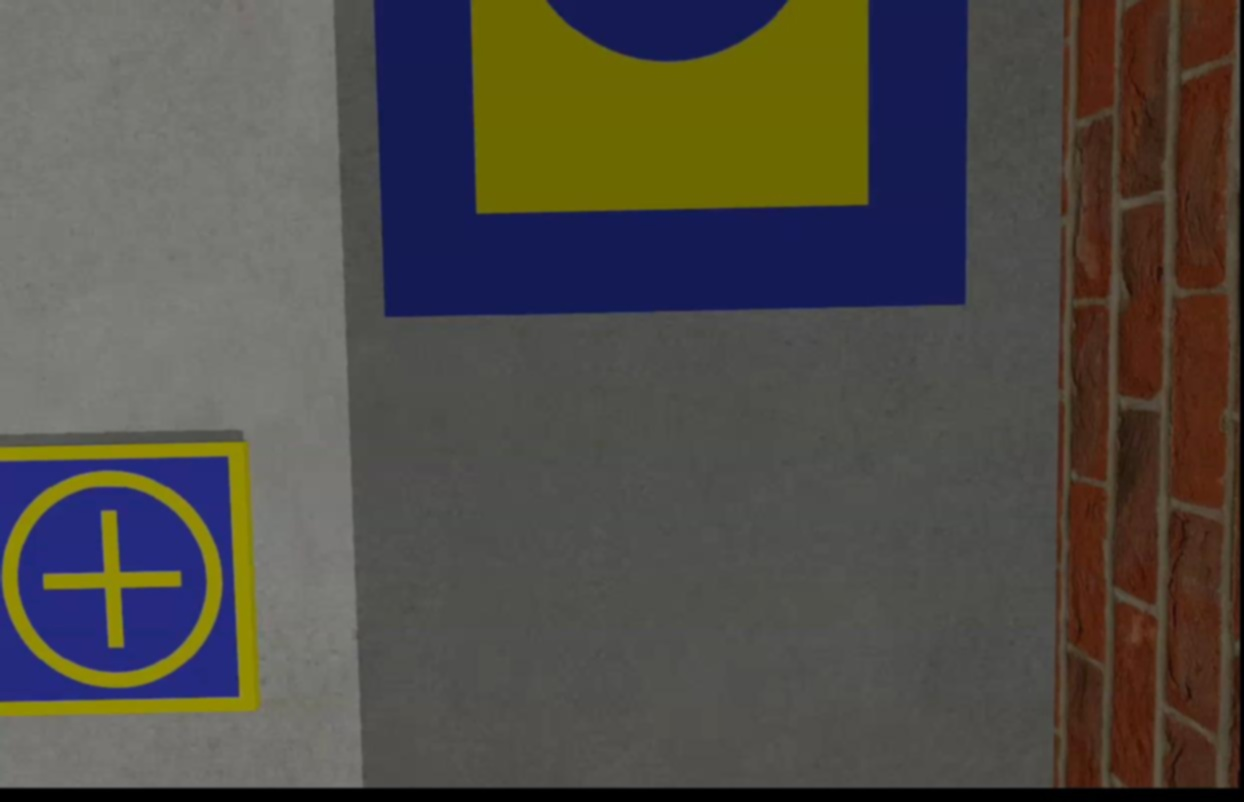large_base: (374, 1, 972, 324)
small_base: (0, 440, 262, 720)
